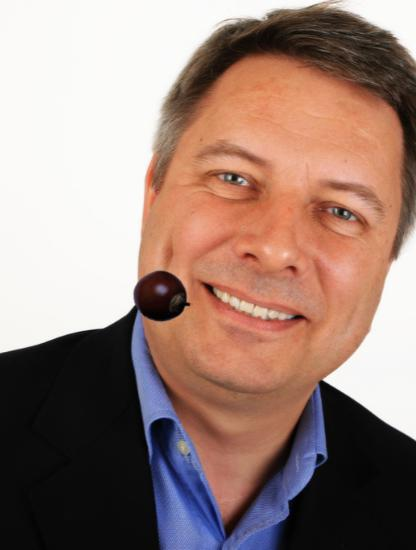Tamarillo: (133, 269, 190, 326)
